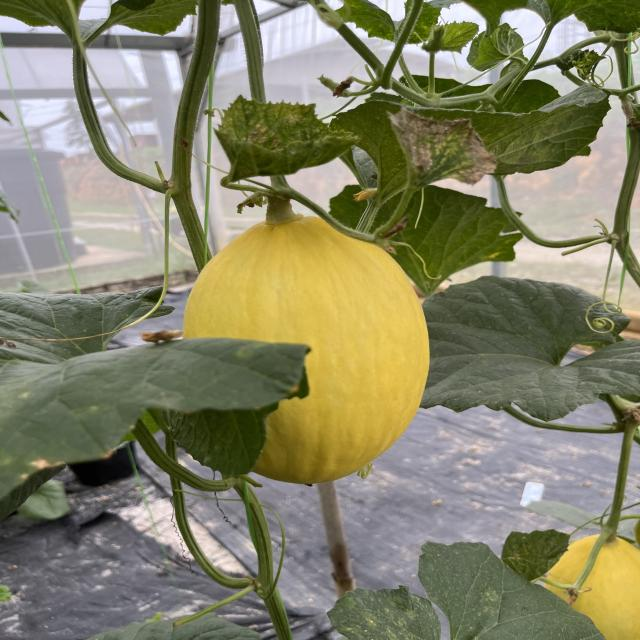alternaria leaf blight: (214, 94, 356, 180)
bacterial wilt: (386, 109, 496, 192)
downy mildew: (436, 544, 592, 640), (328, 585, 440, 640), (412, 14, 489, 54)
healthy: (425, 283, 640, 423)
